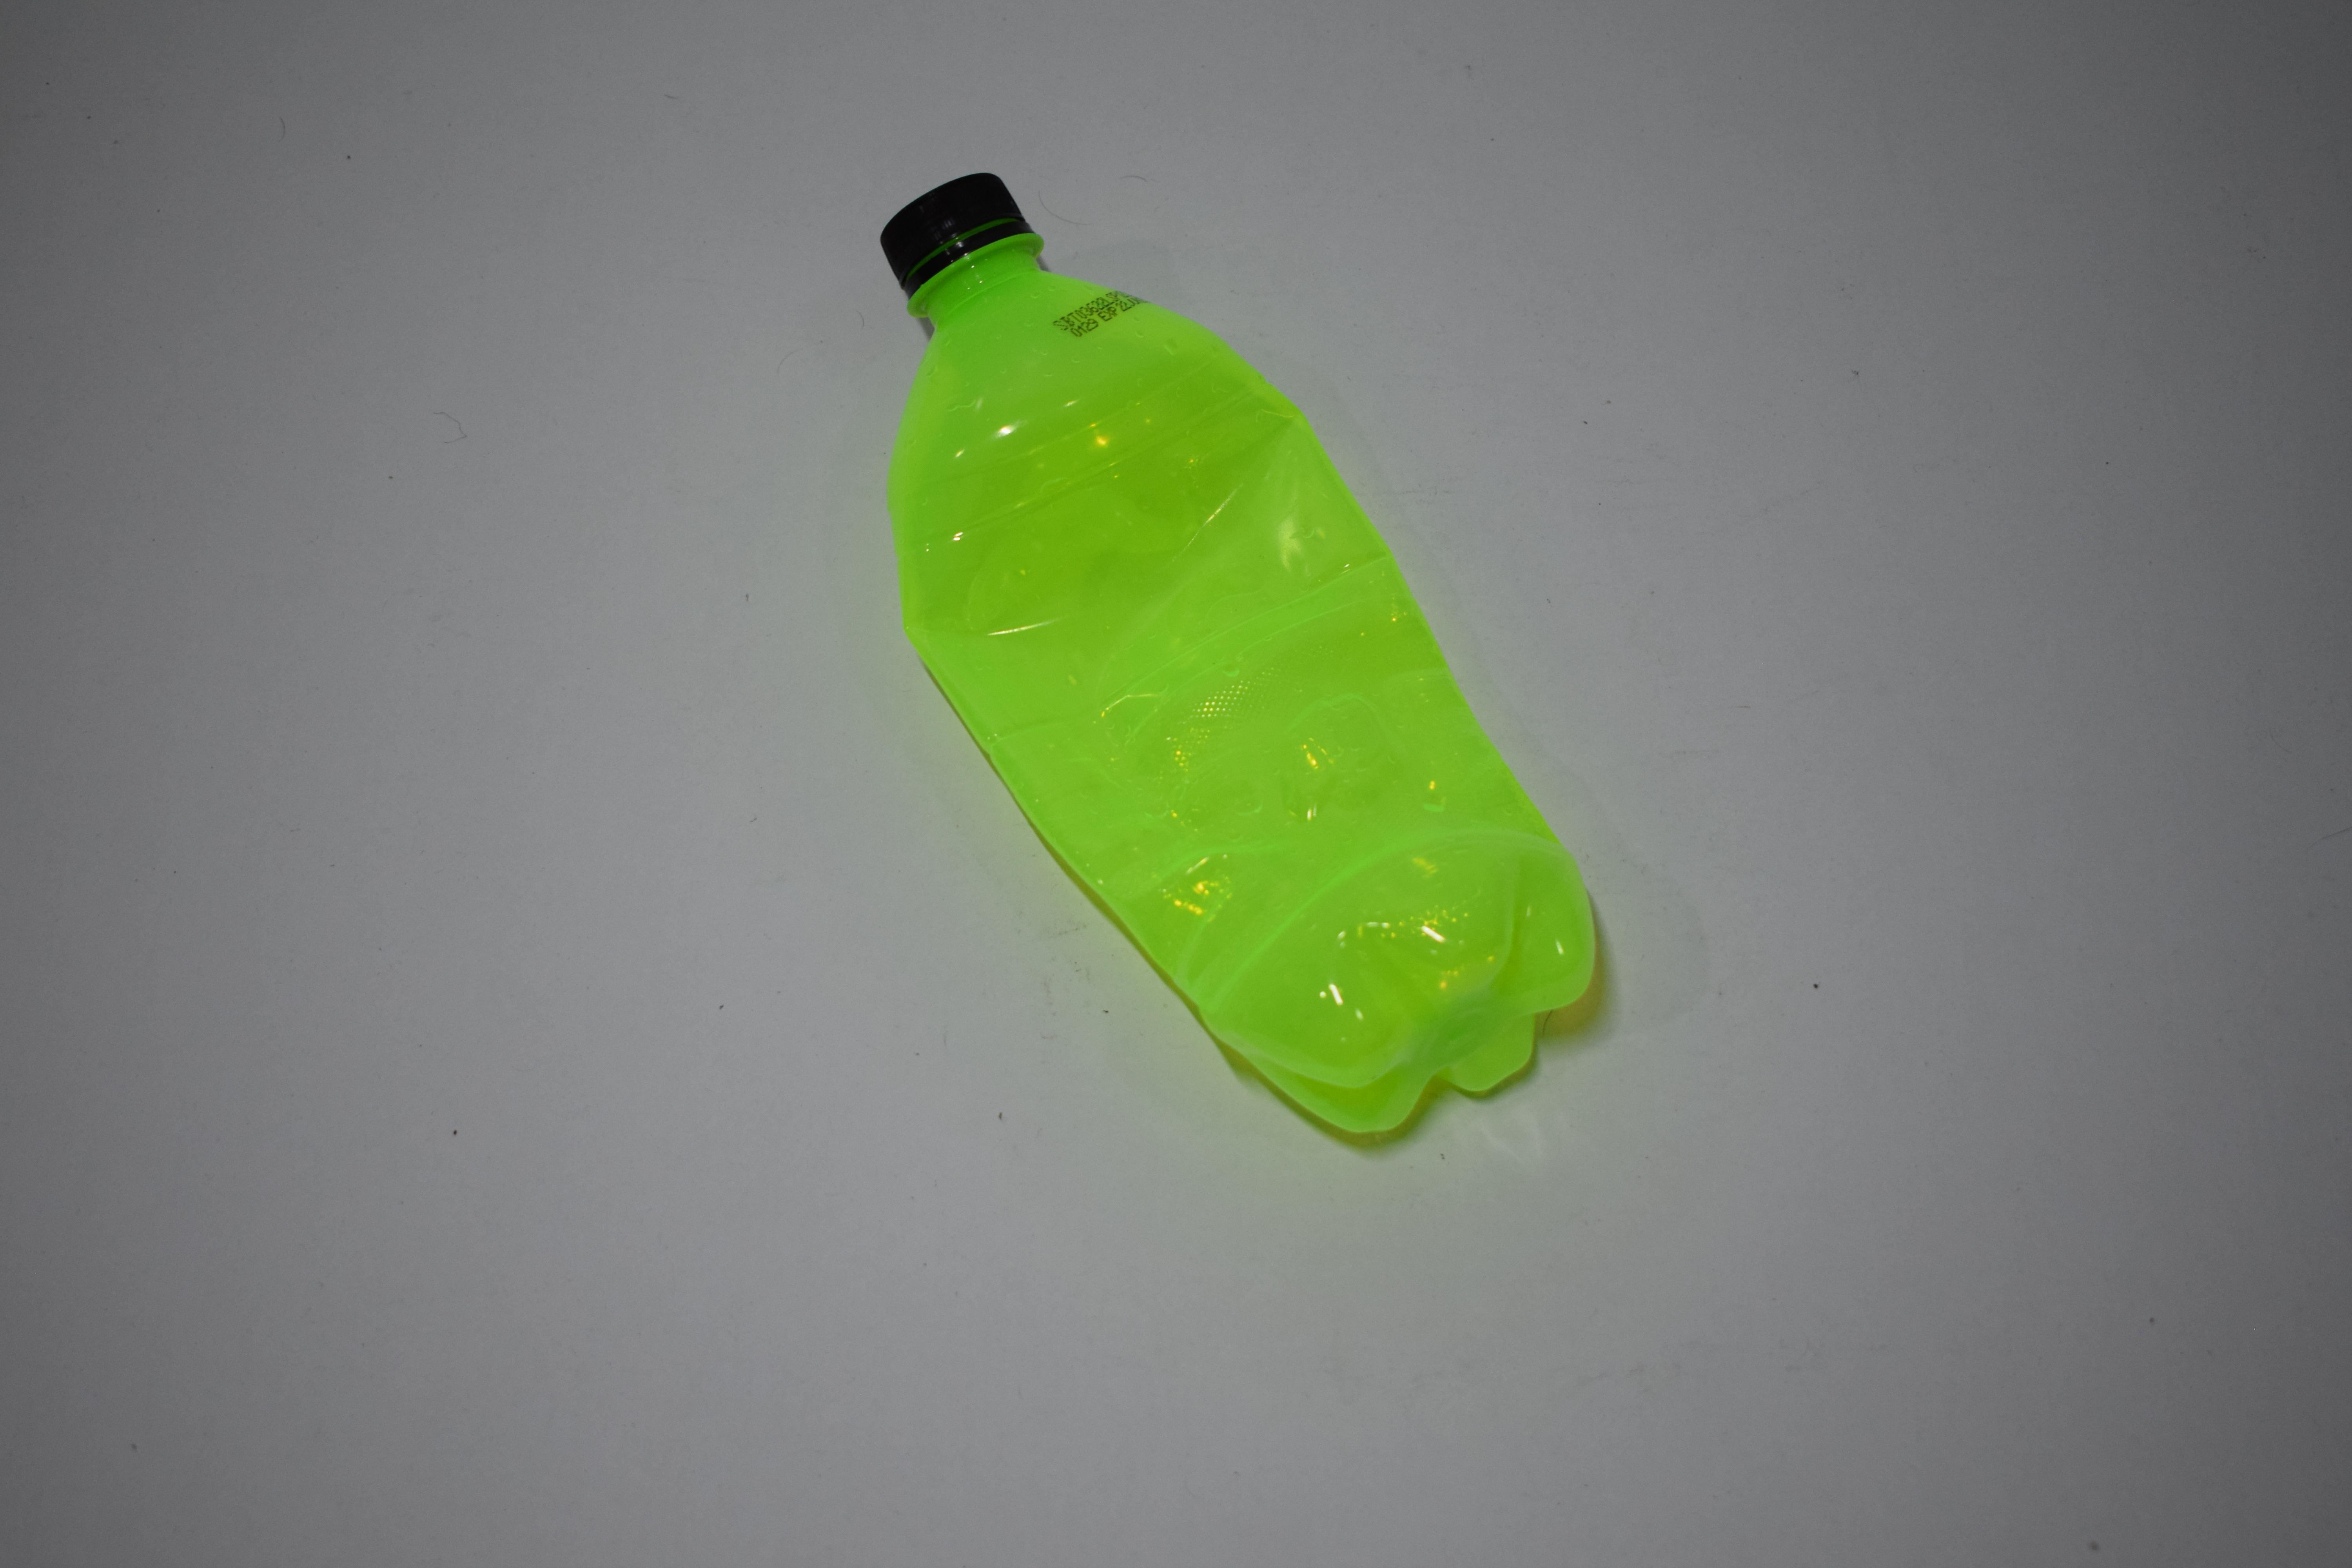bottle: (0, 157, 431, 1148)
